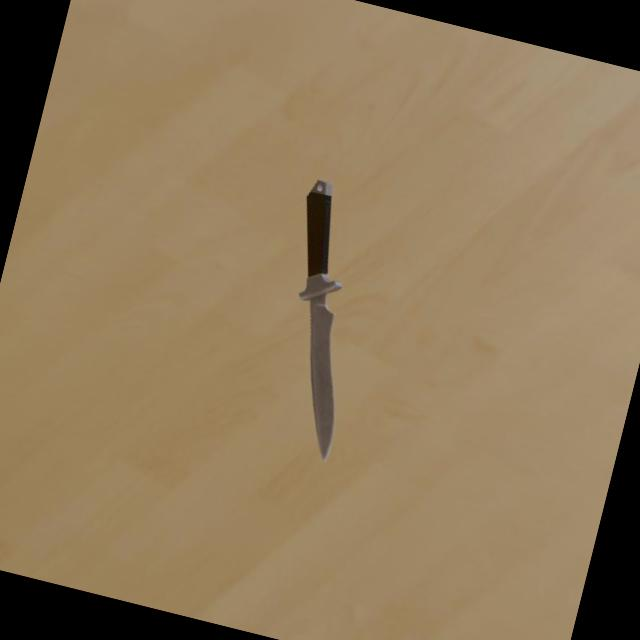knife: (287, 177, 349, 280)
